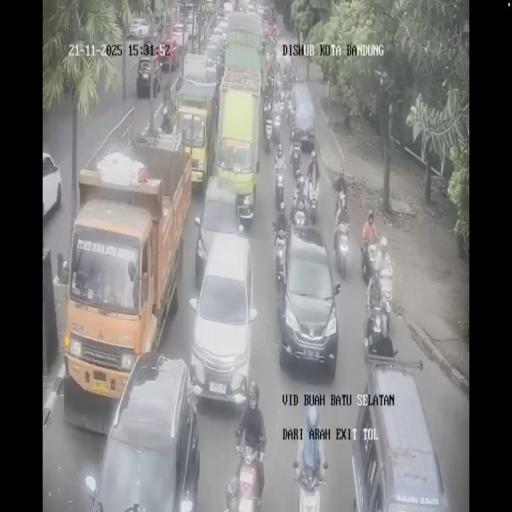car: (88, 353, 200, 508), (352, 358, 448, 508), (278, 224, 340, 373), (194, 174, 244, 285), (292, 83, 316, 151), (42, 151, 62, 220), (136, 56, 162, 97), (204, 44, 222, 80), (128, 17, 148, 37), (171, 22, 185, 48), (184, 15, 197, 38), (216, 18, 230, 38), (152, 28, 161, 47), (223, 1, 233, 15), (257, 6, 266, 18), (247, 3, 255, 13)
motorcycle: (230, 435, 265, 511), (292, 446, 328, 510), (272, 224, 290, 293), (332, 214, 350, 278), (361, 234, 378, 284), (304, 171, 320, 224), (274, 160, 286, 208), (292, 173, 307, 210), (270, 106, 283, 146), (334, 184, 348, 220), (264, 23, 278, 50), (287, 98, 297, 133), (262, 88, 272, 120), (278, 85, 287, 111), (290, 64, 301, 84)
truck: (173, 80, 218, 194), (180, 2, 194, 20)
